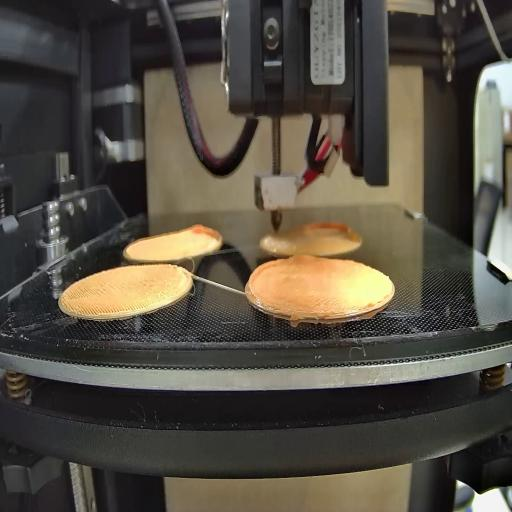over_extrusion: (248, 252, 288, 301), (191, 222, 223, 256), (300, 220, 358, 238), (292, 250, 325, 268)
